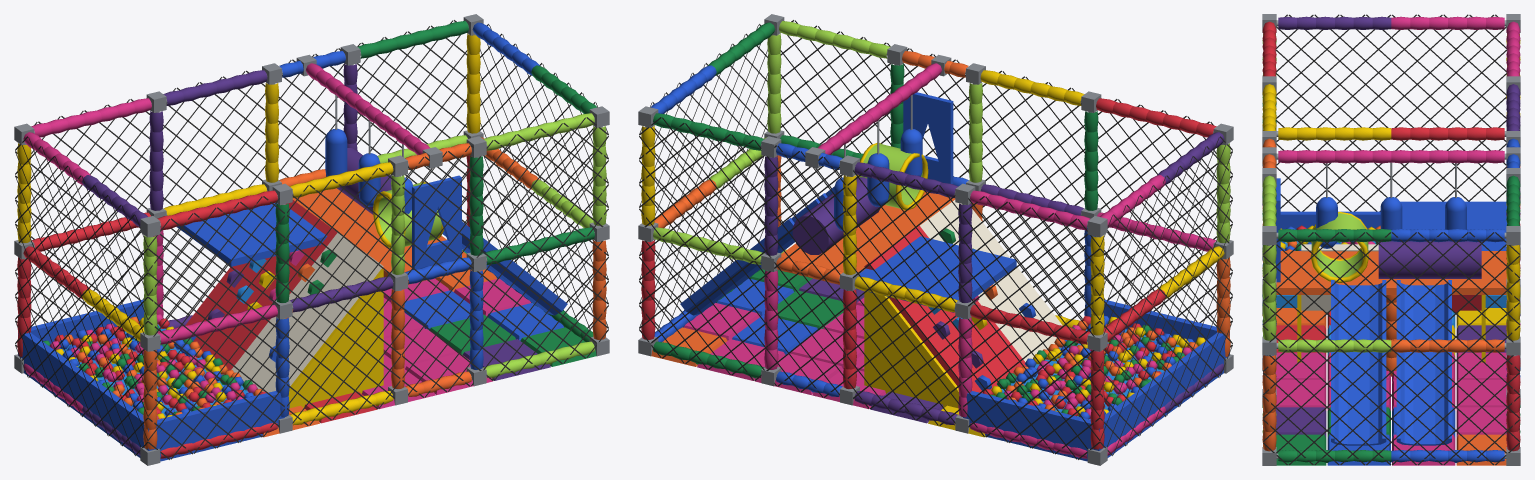
Rendered from mini.glb.
3 renders of one model, left to right at view 1: azimuth 30°, elevation 25°; view 2: azimuth 150°, elevation 25°; view 3: azimuth 270°, elevation 25°, orthographic. The views are drawn at different scales.
Parts seen in each view (by area): view 1: isotubo, rede, plataforma, acolchoado, piso, bolinhas, metal, plastico; view 2: isotubo, rede, plataforma, acolchoado, piso, bolinhas, metal, plastico; view 3: isotubo, rede, plastico, piso, plataforma, acolchoado, metal, bolinhas.
Boxes of the visible parts, x1,y1,x2,y2 form: isotubo: (17, 21, 606, 458); rede: (15, 20, 608, 459); plataforma: (176, 175, 469, 408); acolchoado: (18, 128, 443, 461); piso: (262, 269, 596, 437); bolinhas: (43, 314, 265, 419); metal: (14, 14, 609, 465); plastico: (191, 221, 567, 362); isotubo: (641, 21, 1230, 458); rede: (639, 20, 1232, 459); plataforma: (778, 92, 1062, 408); acolchoado: (792, 128, 1229, 461); piso: (651, 269, 985, 437); bolinhas: (983, 315, 1205, 419); metal: (638, 14, 1233, 465); plastico: (680, 186, 1036, 391); isotubo: (1262, 16, 1520, 462); rede: (1263, 14, 1519, 465); plastico: (1331, 280, 1451, 445); piso: (1263, 308, 1519, 465); plataforma: (1275, 178, 1507, 362); acolchoado: (1276, 197, 1506, 307); metal: (1262, 14, 1520, 465); bolinhas: (1280, 225, 1380, 250).
Bounding box in the file's own units: 0.4 × 0.2 × 0.2.
Materials: 8 (7 with a texture image).
